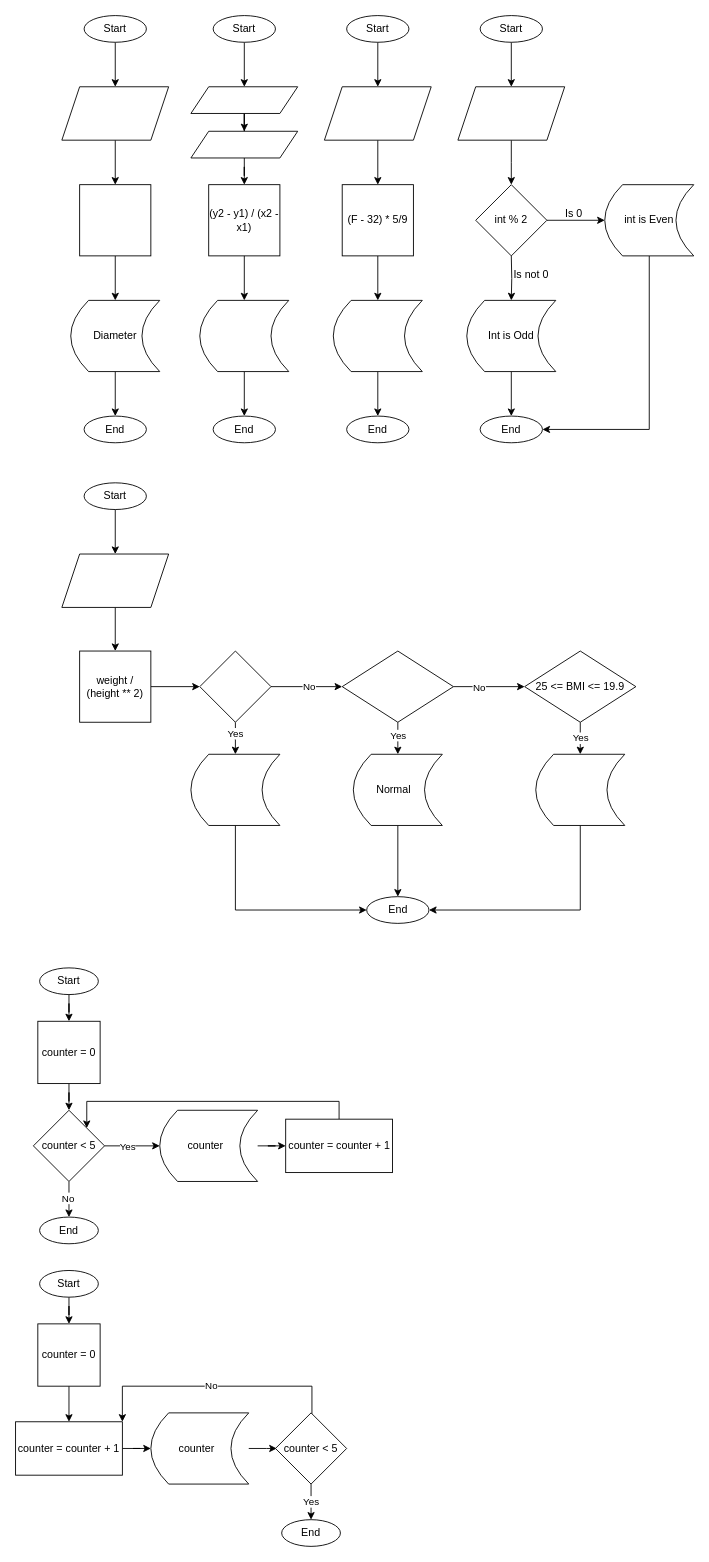
Some shapes in this 709 by 1562 pixel diagram are drawn without their labels. The shapes that lost their labels are listed below. From the top down, each one's box as (x1, y1, x2, y2) in pixels, then its label:
(61, 86, 169, 140): circumference
(190, 86, 298, 113): x1, y1
(324, 86, 431, 140): Farenheit
(457, 86, 565, 140): int
(190, 130, 298, 158): x2, y2
(79, 184, 151, 256): c / 3.1415926535
(199, 299, 289, 372): Slope
(332, 299, 422, 372): Celcius
(61, 553, 169, 607): weight height
(199, 650, 271, 722): BMI < 18.5
(341, 650, 453, 722): 18.5 <= BMI <= 24.9
(190, 753, 280, 825): Underweight
(535, 753, 625, 825): Overweight
